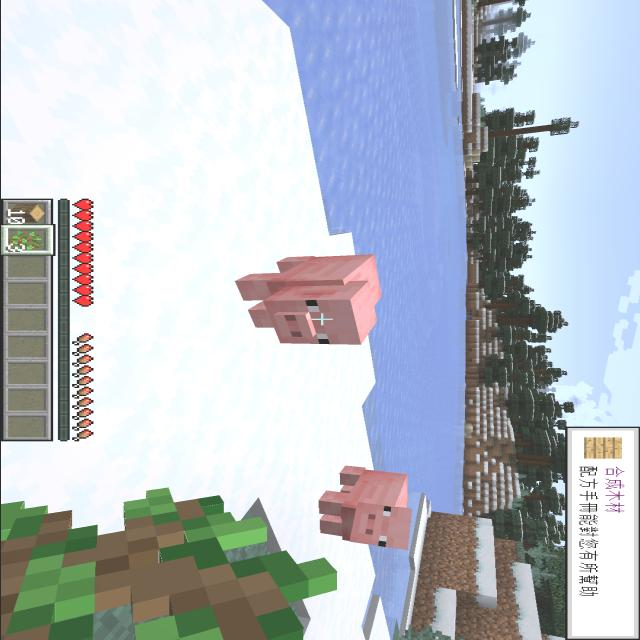pig: (209, 242, 407, 358), (302, 460, 422, 556)
